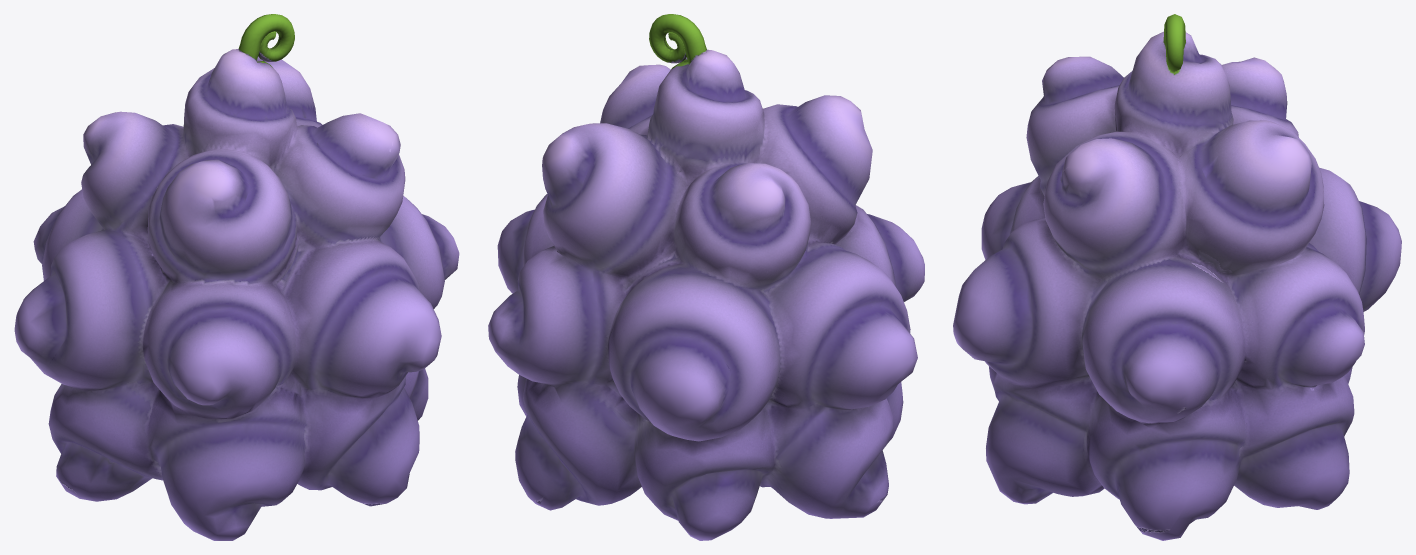
The model's file is darkness.fbx.
3 views of the same model, side by side, from view 1: azimuth 30°, elevation 25°; view 2: azimuth 150°, elevation 25°; view 3: azimuth 270°, elevation 25° (orthographic). The views are drawn at different scales.
Visible parts, largest first — view 1: DarknessFruit; view 2: DarknessFruit; view 3: DarknessFruit.
Part boxes in pixels (bbox=[...]): DarknessFruit: bbox=[14, 14, 459, 540]; DarknessFruit: bbox=[488, 14, 924, 540]; DarknessFruit: bbox=[953, 14, 1401, 540].
Size of the model in its own units: 2.34 by 2.42 by 2.1.
